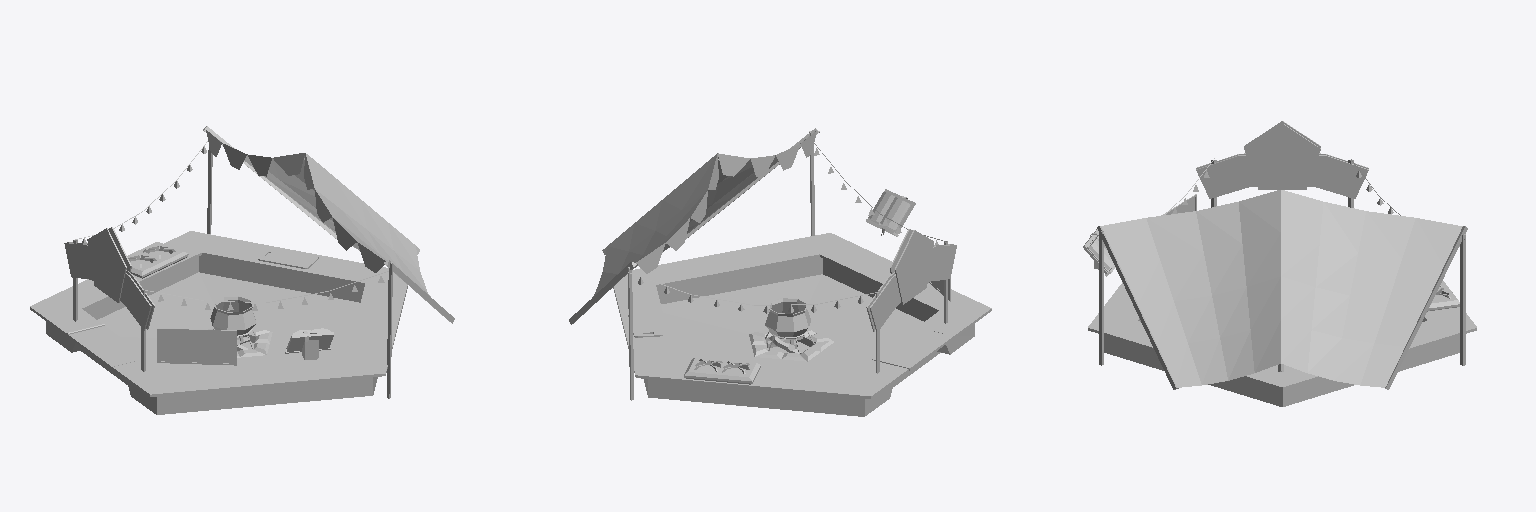
The model's file is book.obj.
3 renders of one model, left to right at view 1: azimuth 30°, elevation 25°; view 2: azimuth 150°, elevation 25°; view 3: azimuth 270°, elevation 25°, orthographic.
Visible parts, largest first — view 1: Counter Player_Area group2 initialShadingGroup polySurface2 poly, Floor Player_Area group2 initialShadingGroup polySurface2 polySu, Tent Tent_Roof group2 initialShadingGroup polySurface2 polySurfa, Chitboard group2 initialShadingGroup polySurface2 polySurface1, Billboard_Outside Player_Area Sign group2 initialShadingGroup po, Billboard_Outside_2 Player_Area Sign group2 initialShadingGroup , Door Player_Area group2 initialShadingGroup polySurface2 polySur, Tent Tent1 Tent_Roof group2 initialShadingGroup polySurface2 pol, Stew_Pot group2 initialShadingGroup polySurface2 polySurface3 po, Stove Stove_Base group2 initialShadingGroup polySurface2 polySur, Cutting_Board cuttingBoard_GEO group2 initialShadingGroup polySu, Tent Tent_Legs Tent_Stand_05 group2 initialShadingGroup polySurf (+1 smaller); view 2: Counter Player_Area group2 initialShadingGroup polySurface2 poly, Floor Player_Area group2 initialShadingGroup polySurface2 polySu, Tent Tent_Roof group2 initialShadingGroup polySurface2 polySurfa, Billboard_Outside Player_Area Sign group2 initialShadingGroup po, Billboard_Outside_2 Player_Area Sign group2 initialShadingGroup , Door Player_Area group2 initialShadingGroup polySurface2 polySur, Tent Tent1 Tent_Roof group2 initialShadingGroup polySurface2 pol, Stew_Pot group2 initialShadingGroup polySurface2 polySurface3 po, Stove Stove_Base group2 initialShadingGroup polySurface2 polySur, Book group2 initialShadingGroup pCube5 polySurface2 polySurface1, Cutting_Board cuttingBoard_GEO group2 initialShadingGroup polySu, Tent Tent_Legs Tent_Stand_04 group2 initialShadingGroup polySurf (+1 smaller); view 3: Tent Tent_Roof group2 initialShadingGroup polySurface2 polySurfa, Counter Player_Area group2 initialShadingGroup polySurface2 poly, Billoard_Inside Player_Area Sign group2 initialShadingGroup poly, Billboard_Inside_2 Player_Area Sign group2 initialShadingGroup p, Suppor_Right Tent Tent_Roof group2 initialShadingGroup polySurfa, Support_Left Tent Tent_Roof group2 initialShadingGroup polySurfa, Tent Tent_Legs Tent_Stand_04 group2 initialShadingGroup polySurf, Tent Tent_Legs Tent_Stand_05 group2 initialShadingGroup polySurf.
Boxes of the visible parts, box(x1,y1,x2,y2) form: Counter Player_Area group2 initialShadingGroup polySurface2 poly: box(30, 231, 407, 414); Floor Player_Area group2 initialShadingGroup polySurface2 polySu: box(81, 272, 359, 384); Tent Tent_Roof group2 initialShadingGroup polySurface2 polySurfa: box(206, 130, 430, 296); Chitboard group2 initialShadingGroup polySurface2 polySurface1: box(157, 328, 236, 365); Billboard_Outside Player_Area Sign group2 initialShadingGroup po: box(87, 228, 126, 302); Billboard_Outside_2 Player_Area Sign group2 initialShadingGroup : box(64, 243, 151, 330); Door Player_Area group2 initialShadingGroup polySurface2 polySur: box(68, 326, 147, 368); Tent Tent1 Tent_Roof group2 initialShadingGroup polySurface2 pol: box(209, 146, 378, 272); Stew_Pot group2 initialShadingGroup polySurface2 polySurface3 po: box(210, 296, 256, 342); Stove Stove_Base group2 initialShadingGroup polySurface2 polySur: box(127, 242, 188, 278); Cutting_Board cuttingBoard_GEO group2 initialShadingGroup polySu: box(258, 248, 318, 268); Tent Tent_Legs Tent_Stand_05 group2 initialShadingGroup polySurf: box(387, 262, 392, 398); Counter Player_Area group2 initialShadingGroup polySurface2 poly: box(613, 233, 991, 416); Floor Player_Area group2 initialShadingGroup polySurface2 polySu: box(661, 274, 940, 386); Tent Tent_Roof group2 initialShadingGroup polySurface2 polySurfa: box(592, 131, 815, 297); Billboard_Outside Player_Area Sign group2 initialShadingGroup po: box(895, 230, 933, 304); Billboard_Outside_2 Player_Area Sign group2 initialShadingGroup : box(870, 245, 956, 331); Door Player_Area group2 initialShadingGroup polySurface2 polySur: box(874, 327, 953, 370); Tent Tent1 Tent_Roof group2 initialShadingGroup polySurface2 pol: box(632, 148, 810, 273); Stew_Pot group2 initialShadingGroup polySurface2 polySurface3 po: box(765, 298, 810, 344); Stove Stove_Base group2 initialShadingGroup polySurface2 polySur: box(684, 357, 760, 384); Book group2 initialShadingGroup pCube5 polySurface2 polySurface1: box(868, 192, 909, 230); Cutting_Board cuttingBoard_GEO group2 initialShadingGroup polySu: box(628, 312, 662, 337); Tent Tent_Legs Tent_Stand_04 group2 initialShadingGroup polySurf: box(628, 267, 633, 400); Tent Tent_Roof group2 initialShadingGroup polySurface2 polySurfa: box(1101, 190, 1462, 386); Counter Player_Area group2 initialShadingGroup polySurface2 poly: box(1088, 282, 1476, 406); Billoard_Inside Player_Area Sign group2 initialShadingGroup poly: box(1244, 123, 1320, 189); Billboard_Inside_2 Player_Area Sign group2 initialShadingGroup p: box(1196, 155, 1368, 198); Suppor_Right Tent Tent_Roof group2 initialShadingGroup polySurfa: box(1385, 226, 1467, 389); Support_Left Tent Tent_Roof group2 initialShadingGroup polySurfa: box(1097, 226, 1178, 389); Tent Tent_Legs Tent_Stand_04 group2 initialShadingGroup polySurf: box(1460, 234, 1465, 365); Tent Tent_Legs Tent_Stand_05 group2 initialShadingGroup polySurf: box(1099, 231, 1103, 365).
Size of the model in its own units: 20.67 by 10.87 by 21.4.